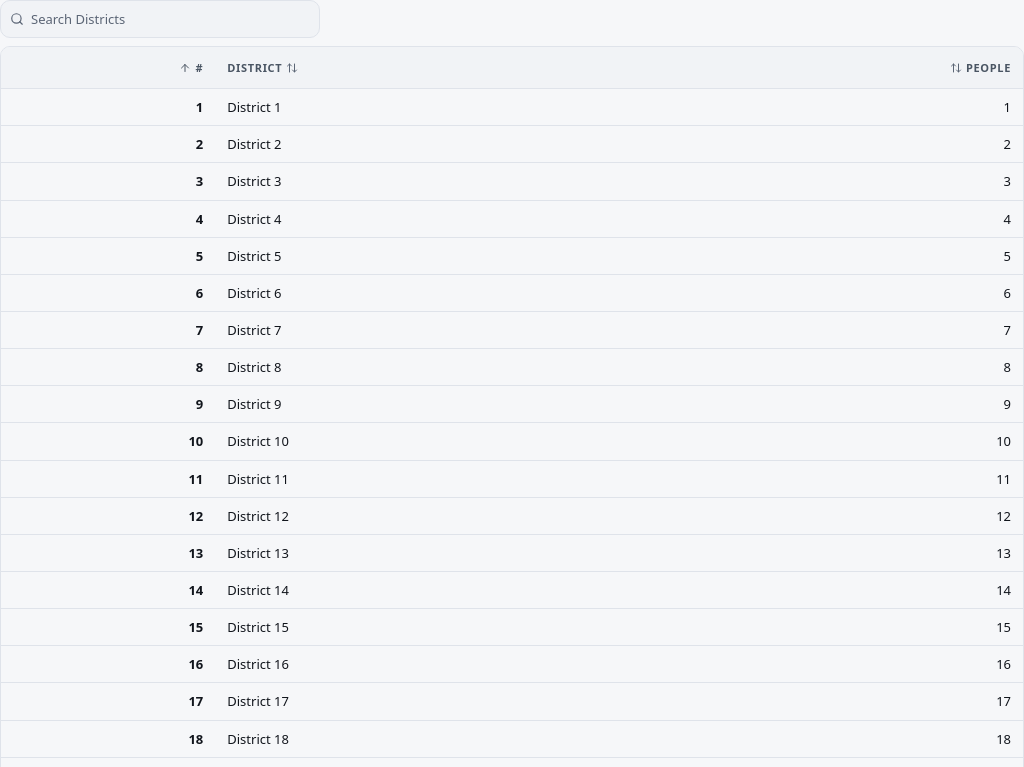
Test: SortableTable search › filters rows by text after a short debounce, with a count and an empty state
The width and height of the screenshot is (1024, 767).
Type "district 1" into the search field labelled "Search Districts".
click(160, 19); type("district 1")  # box x1=0 y1=0 x2=320 y2=38
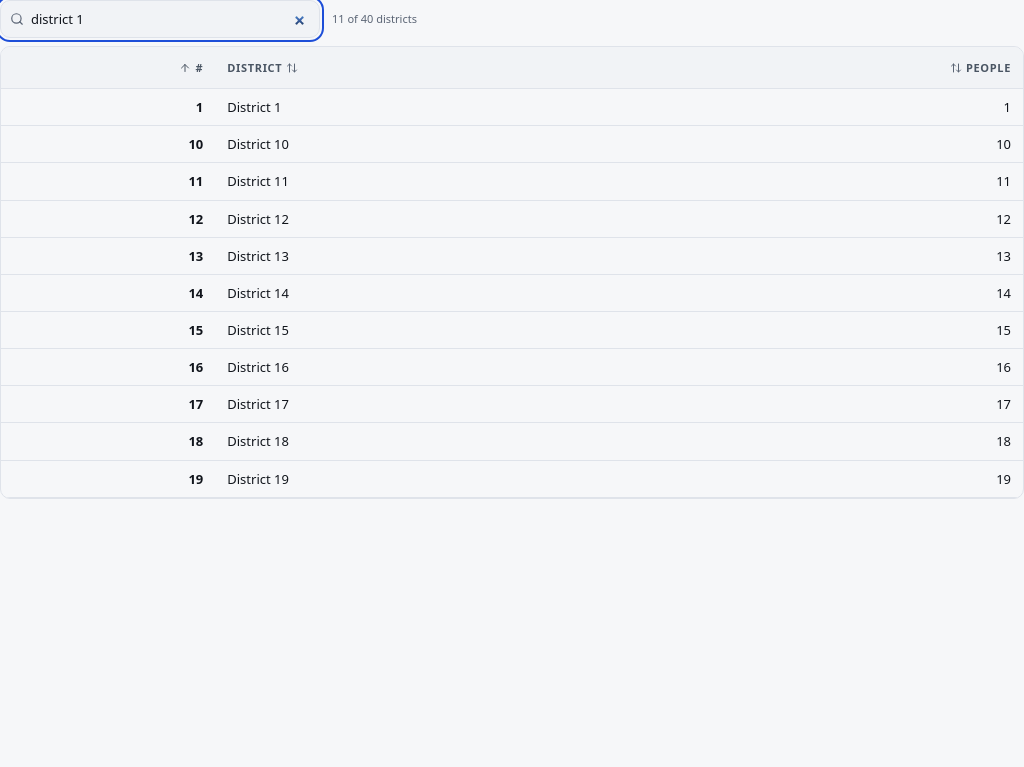
Replace the text in the search field named "Search Districts" with "zzz" at (160, 19), box x1=0 y1=0 x2=320 y2=38
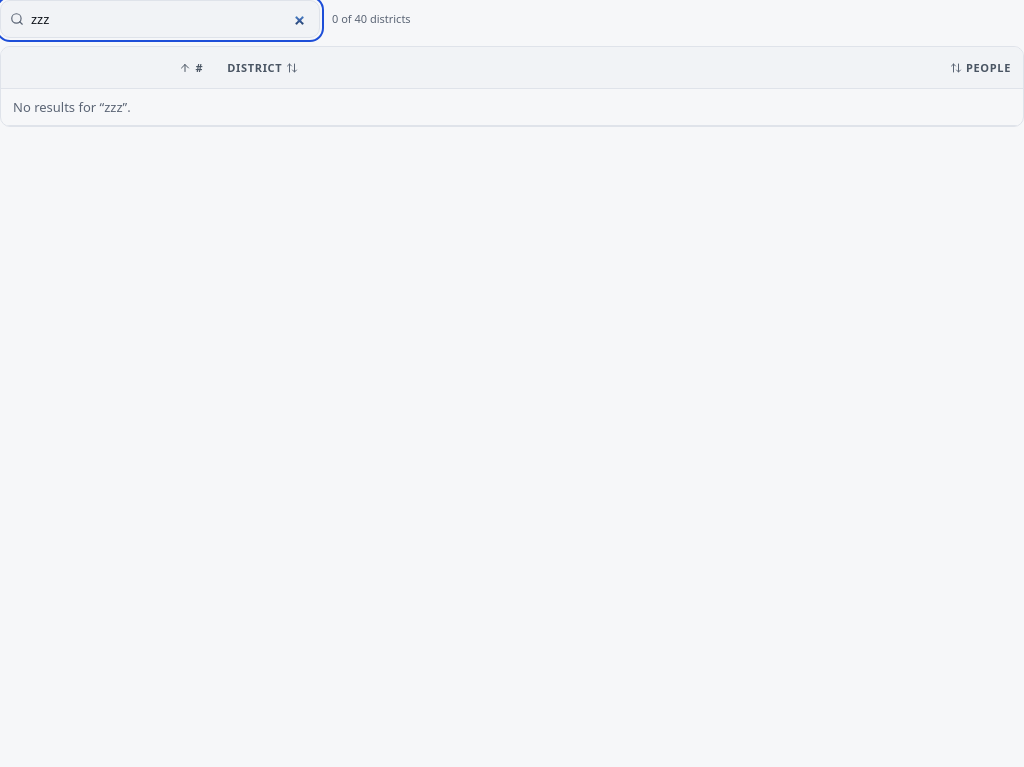
Now the text "No results for “zzz”." is shown, box x1=1 y1=89 x2=1023 y2=126
Now the text "0 of 40 districts" is shown, box x1=332 y1=12 x2=411 y2=26
